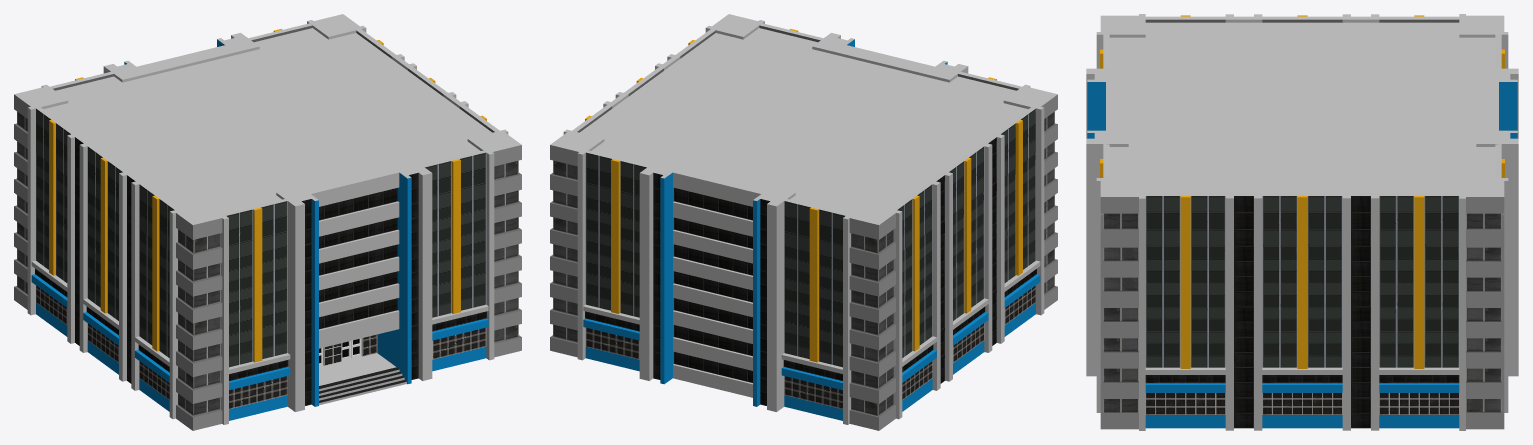
3 renders of one model, left to right at view 1: azimuth 30°, elevation 25°; view 2: azimuth 150°, elevation 25°; view 3: azimuth 270°, elevation 25°, orthographic. The views are drawn at different scales.
Parts seen in each view (by area): view 1: Building; view 2: Building; view 3: Building.
Part boxes in pixels (x1=…): Building: x1=14, y1=14, x2=521, y2=430; Building: x1=550, y1=14, x2=1057, y2=430; Building: x1=1086, y1=14, x2=1518, y2=430.
Size of what is drawn, in the model's own units: 39.23 by 23 by 38.82.
